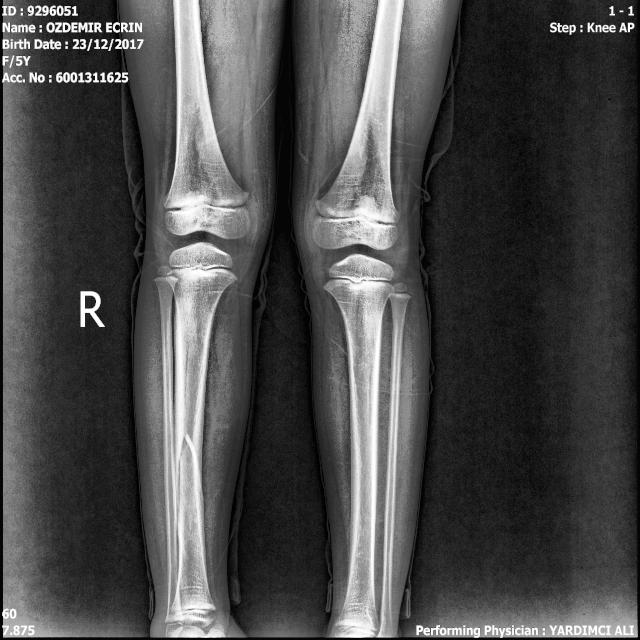Fracture: (154, 432, 199, 531)
